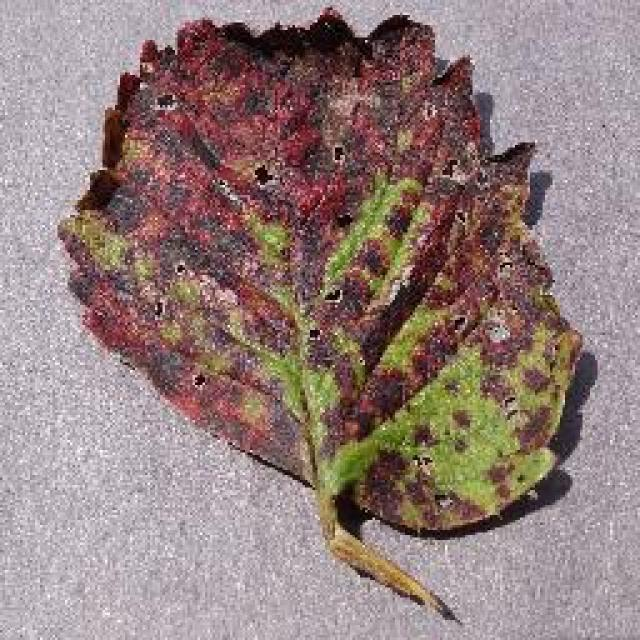Strawberry leaf scorch: (117, 55, 533, 418)
